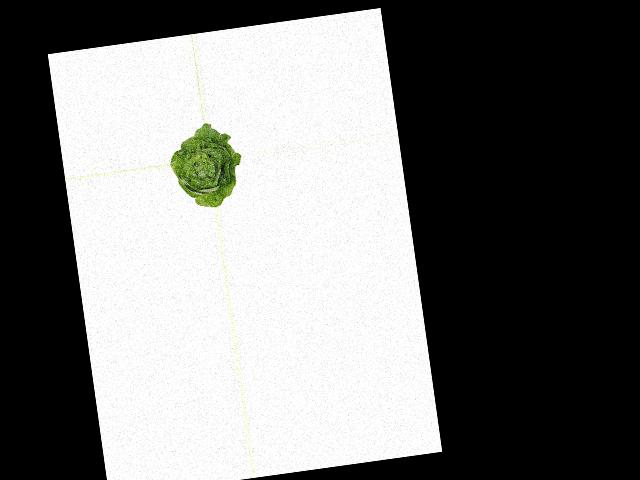lettuce: (166, 121, 247, 213)
